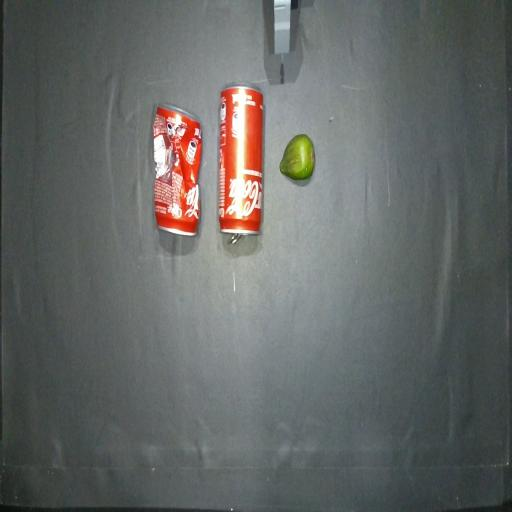higo: (279, 134, 315, 180)
lata: (218, 83, 264, 243)
lata_defectuoso: (153, 106, 202, 235)
